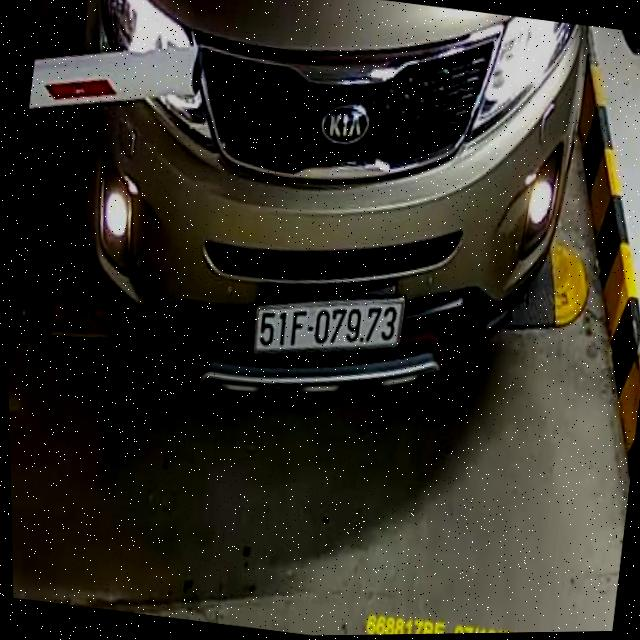car: (30, 0, 605, 456)
plate: (250, 275, 408, 373)
